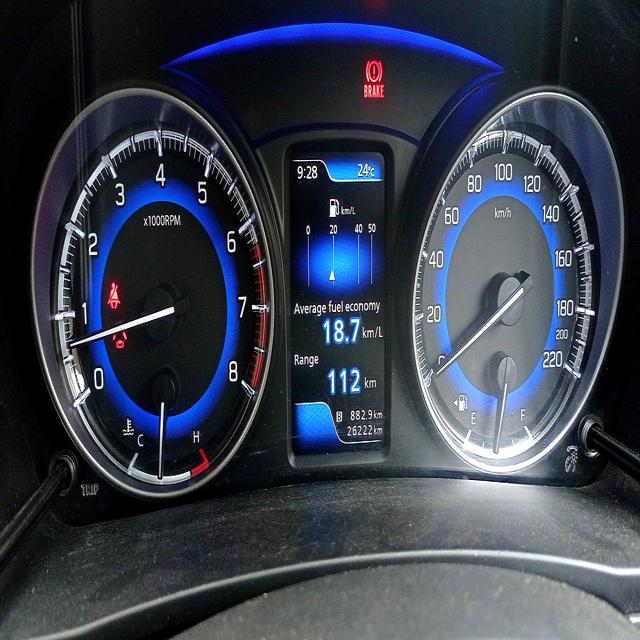odometer: (345, 422, 373, 440)
